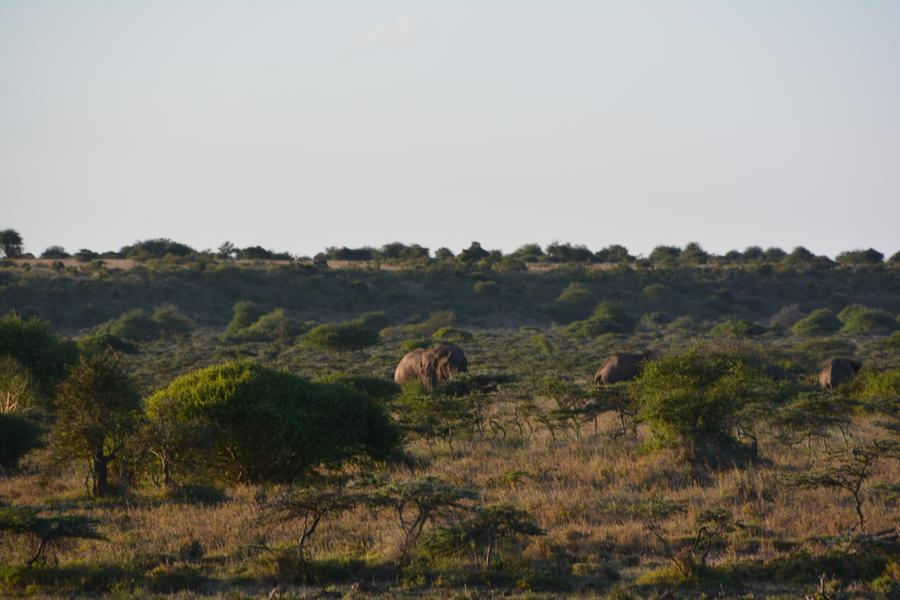elephant: (392, 344, 470, 388), (595, 348, 648, 386), (819, 358, 859, 395)
